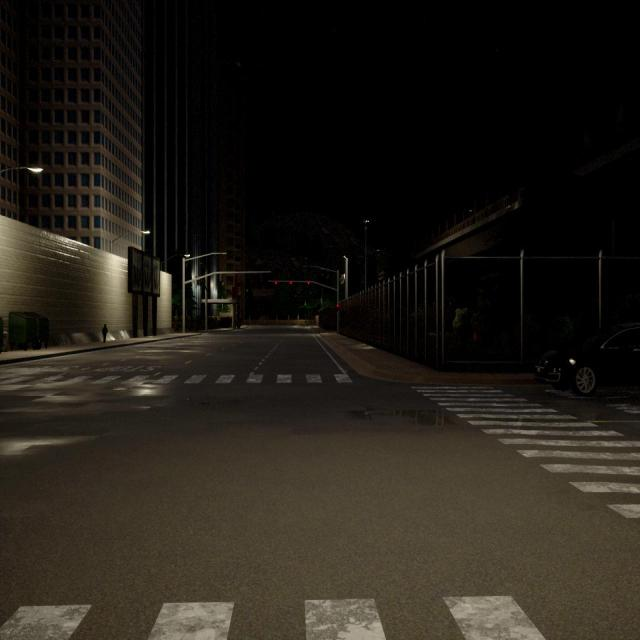Pedestrian: (102, 323, 108, 343)
Vehicle: (534, 324, 640, 395)
traffic_light: (340, 276, 343, 284), (341, 275, 344, 283), (337, 303, 339, 312), (307, 281, 310, 285), (275, 281, 277, 284), (290, 281, 292, 284)
